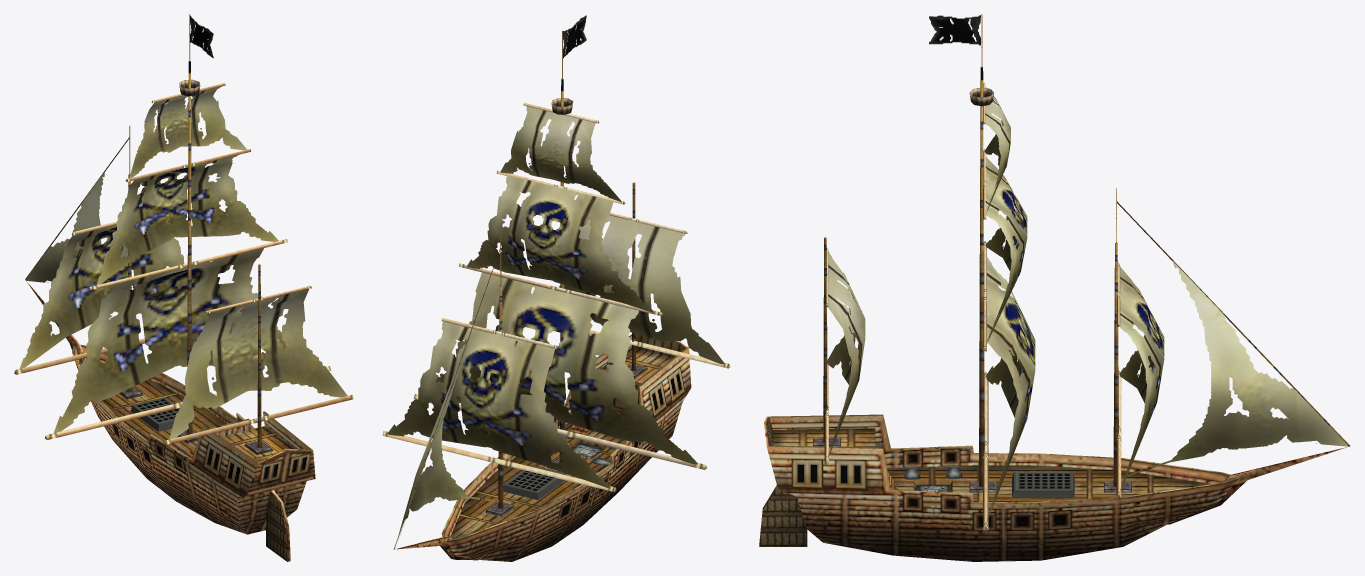
The model's file is ship.obj.
The picture shows the model from 3 angles, left to right: view 1: azimuth 30°, elevation 25°; view 2: azimuth 150°, elevation 25°; view 3: azimuth 270°, elevation 25°; orthographic projection. The views are drawn at different scales.
Parts seen in each view (by area): view 1: ship_01; view 2: ship_01; view 3: ship_01.
Part boxes in pixels (<box>): ship_01: <box>14,14,353,561</box>; ship_01: <box>382,15,730,561</box>; ship_01: <box>759,14,1350,561</box>.
Bounding box in the file's own units: 2114 × 3419 × 3404.
Materials: 1 (1 with a texture image).
